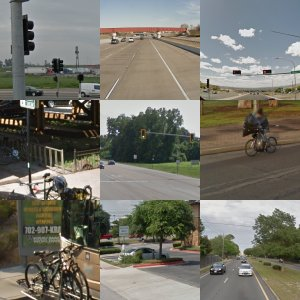公車: (27, 19, 101, 99), (247, 9, 300, 74), (237, 115, 285, 164), (17, 235, 70, 253)
行人穿越道: (106, 216, 191, 259)
